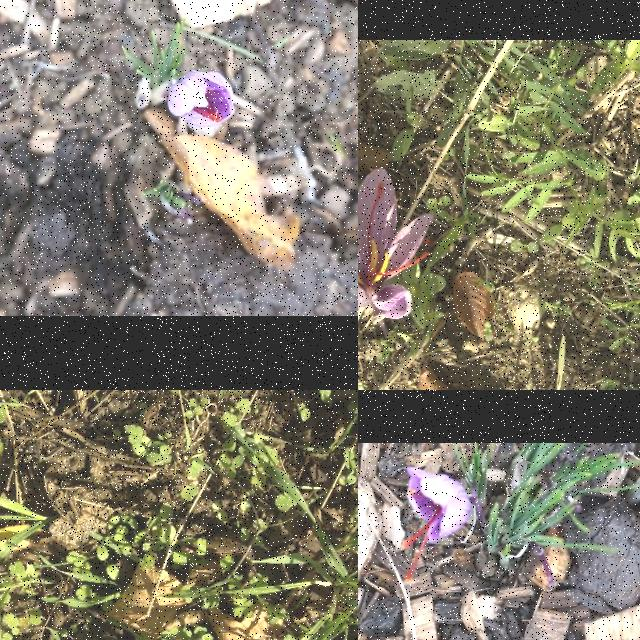flower: (358, 168, 434, 320), (401, 468, 471, 582), (168, 72, 235, 128)
